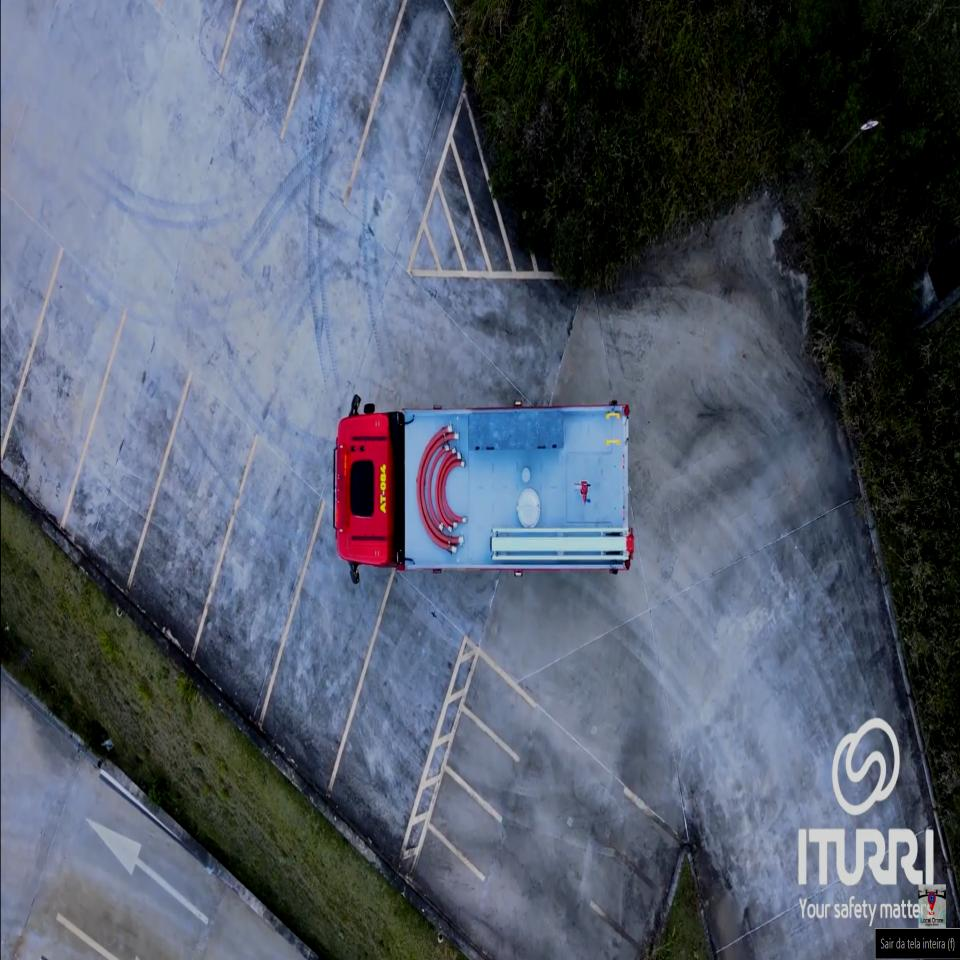bombeiro: (331, 399, 634, 589)
